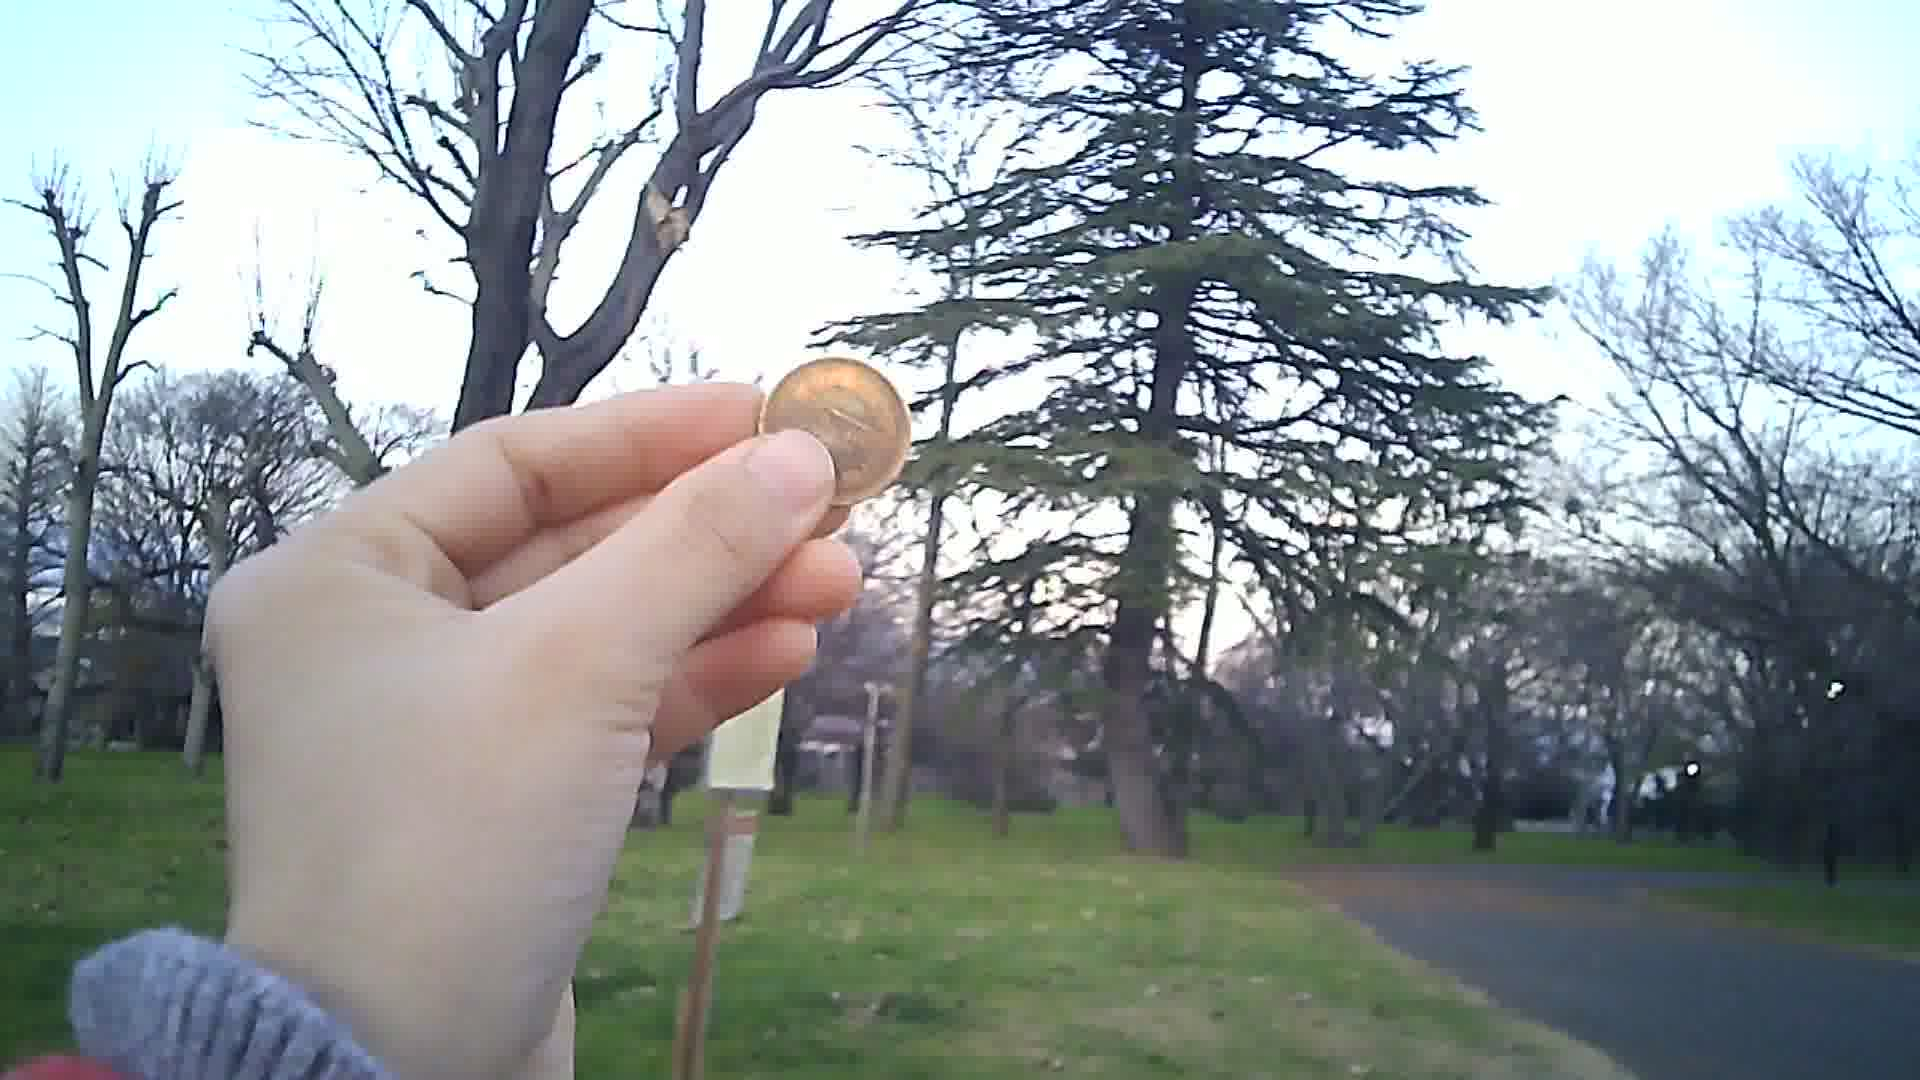10 Yen: (752, 347, 910, 510)
